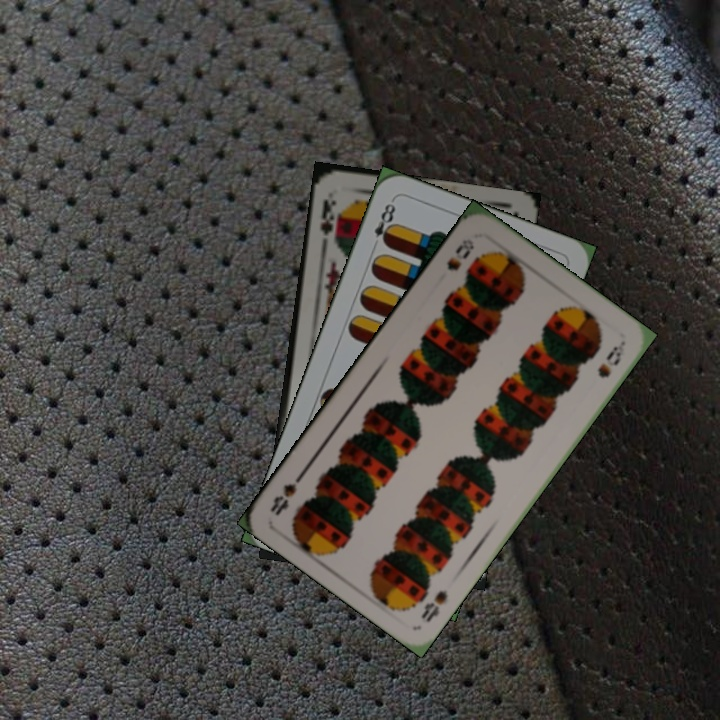E8: (368, 196, 399, 252)
S8: (442, 234, 477, 274), (417, 585, 450, 625)
SK: (316, 194, 342, 246)
